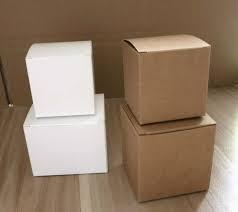box: (120, 95, 216, 203), (122, 33, 211, 126), (23, 93, 108, 177), (25, 41, 94, 118)
